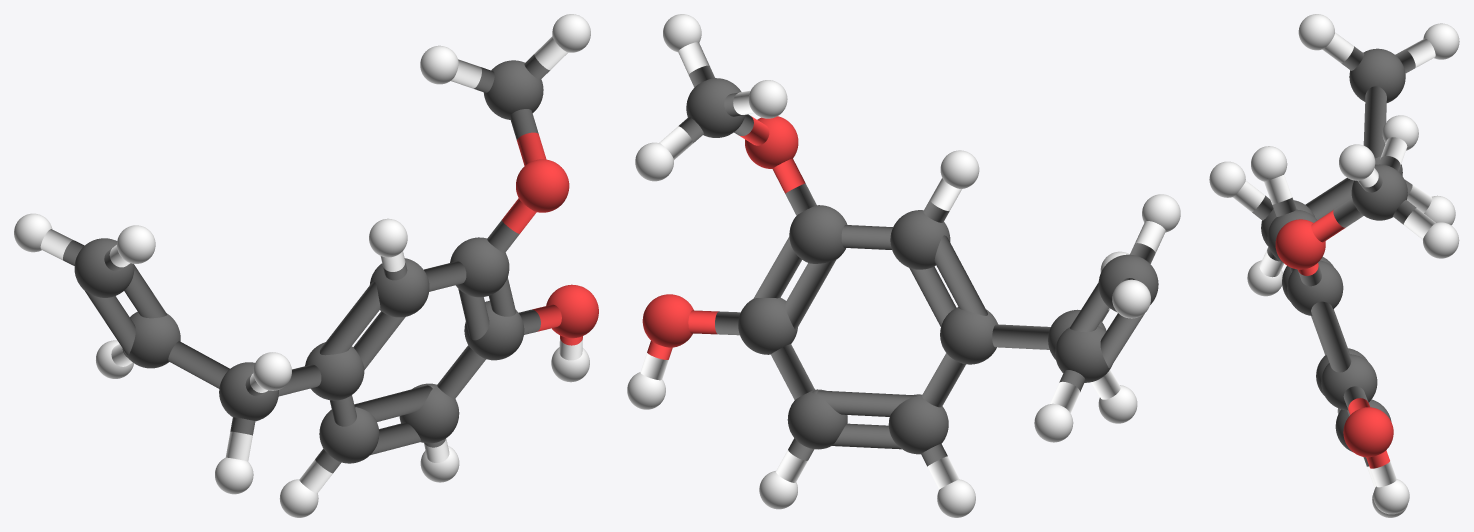
Rendered from eugenol.glb.
The picture shows the model from 3 angles, left to right: view 1: azimuth 30°, elevation 25°; view 2: azimuth 150°, elevation 25°; view 3: azimuth 270°, elevation 25°; orthographic projection. The views are drawn at different scales.
Visible parts, largest first — view 1: eugenol; view 2: eugenol; view 3: eugenol.
Boxes of the visible parts, x1,y1,x2,y2 form: eugenol: (14,14,598,517); eugenol: (627,14,1180,517); eugenol: (1209,14,1459,517).
Size of the model in its own units: 8.2 by 6.48 by 3.48.
